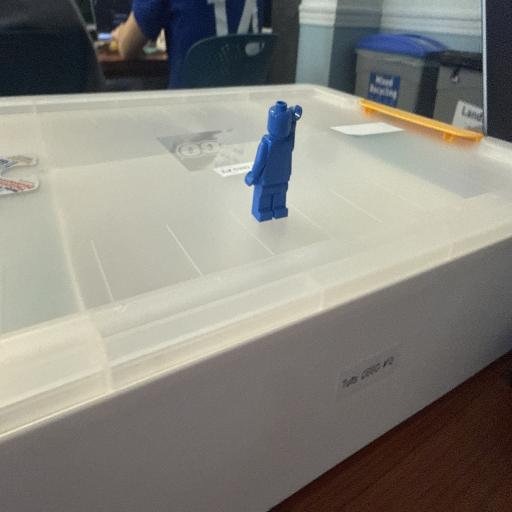Minifig: (245, 101, 302, 221)
